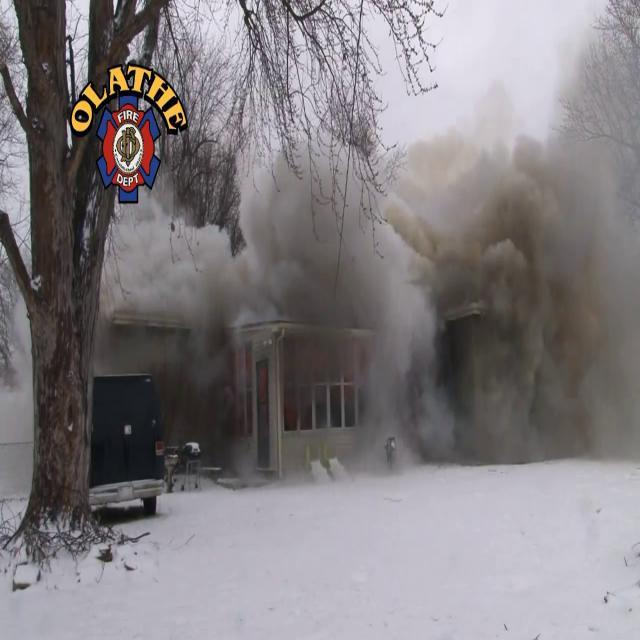Smoke: (94, 52, 640, 480)
